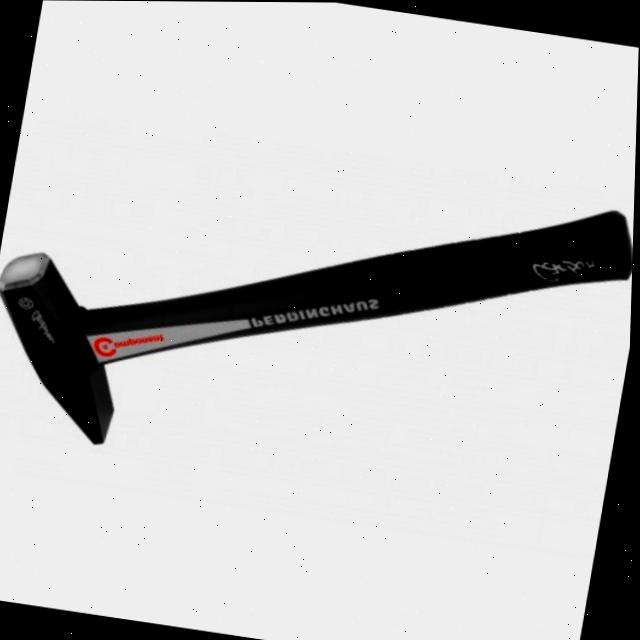hammer: (0, 112, 637, 523)
